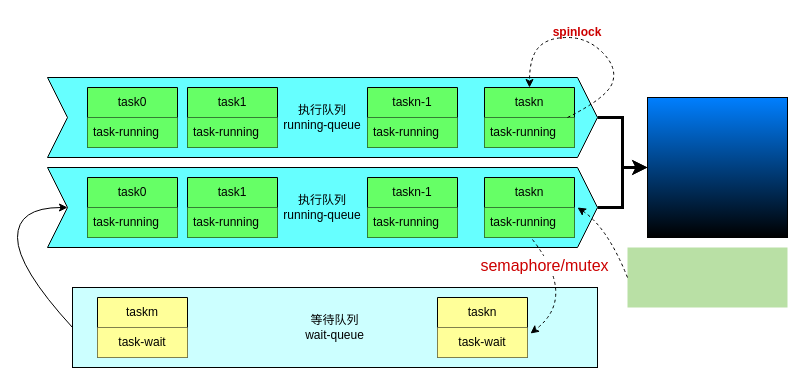
Some shapes in this 805 by 385 pixel diagram are drawn without their labels. Each missing label, with the centre of its shape:
1. delete from running-queue 2. move to wait-queue 3. set state to wait: (707,277)
执行单元: (717,167)
